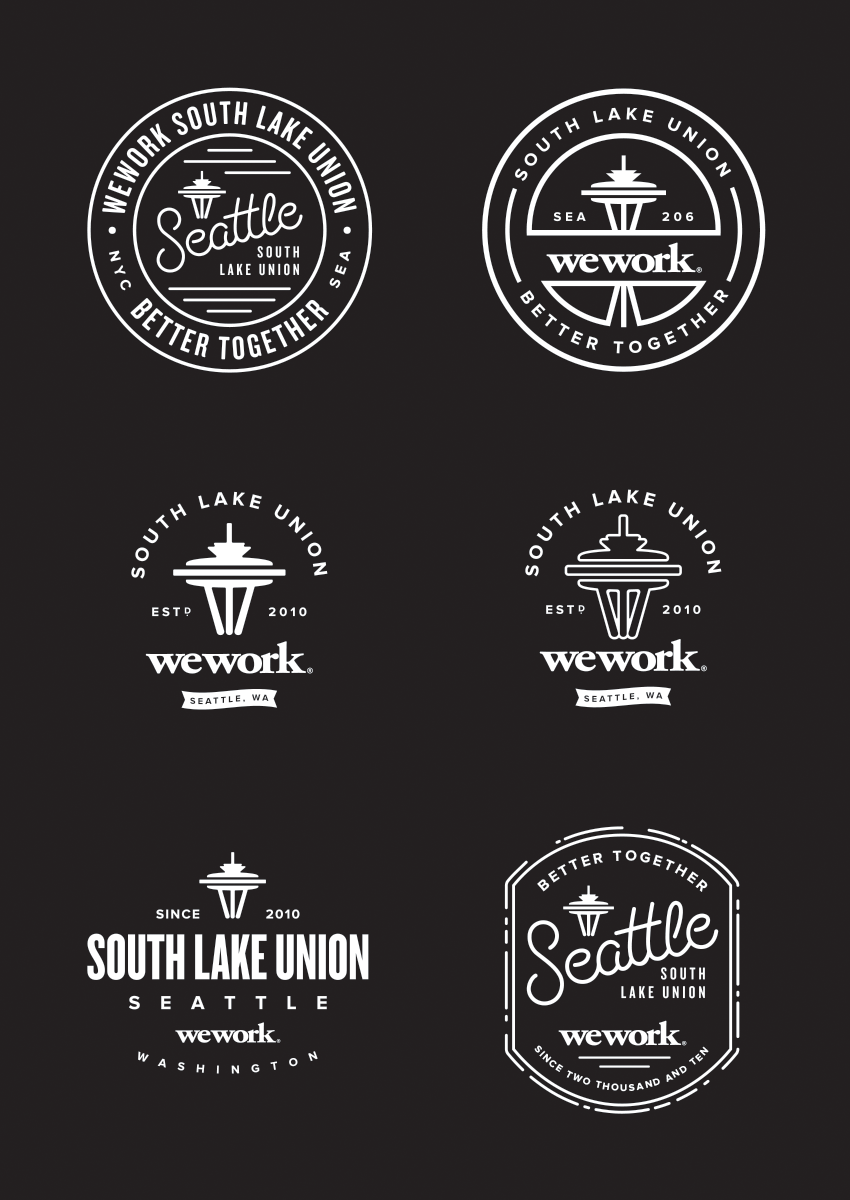wework: (143, 639, 307, 677), (538, 637, 700, 674), (543, 240, 697, 276), (556, 1018, 681, 1049), (173, 1020, 277, 1046)
